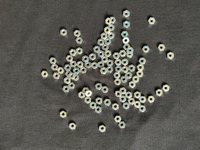nut: (168, 52, 175, 60), (163, 85, 170, 93), (158, 44, 166, 51), (148, 18, 156, 25), (129, 81, 136, 89), (139, 105, 146, 113), (123, 102, 130, 110), (115, 91, 123, 98), (122, 66, 129, 74), (101, 67, 108, 75), (85, 61, 92, 69), (95, 106, 102, 114), (85, 90, 93, 97), (60, 111, 67, 119), (64, 77, 71, 85), (51, 64, 59, 71), (41, 71, 49, 78), (143, 46, 150, 53), (148, 96, 155, 103), (138, 64, 145, 71), (133, 76, 140, 83), (140, 97, 147, 104), (134, 101, 141, 108), (129, 98, 136, 105), (126, 92, 133, 99), (120, 96, 127, 103), (120, 88, 127, 95), (122, 31, 129, 38), (123, 37, 130, 44), (127, 47, 134, 54), (127, 51, 134, 58), (129, 65, 136, 72), (126, 72, 133, 79), (121, 76, 128, 83), (122, 59, 129, 66), (120, 50, 127, 57), (113, 53, 120, 60), (115, 59, 122, 66), (114, 72, 121, 79), (115, 79, 122, 86), (115, 116, 122, 123), (119, 122, 126, 129), (108, 32, 115, 39), (105, 38, 112, 45), (101, 33, 108, 40), (98, 39, 105, 46), (105, 50, 112, 57), (98, 51, 105, 58), (94, 46, 101, 53), (104, 99, 111, 106), (96, 98, 103, 105), (90, 102, 97, 109), (85, 97, 92, 104), (80, 67, 87, 74), (69, 123, 76, 130), (76, 37, 83, 44), (74, 30, 81, 37), (61, 29, 68, 36), (70, 49, 77, 56), (67, 55, 74, 62), (73, 68, 80, 75), (70, 61, 77, 68), (69, 73, 76, 80), (66, 71, 73, 78), (63, 86, 70, 93), (157, 89, 163, 97), (139, 58, 147, 64), (124, 10, 130, 18), (100, 125, 106, 133), (137, 71, 144, 77), (135, 92, 141, 99), (124, 21, 130, 28), (124, 44, 131, 50), (116, 66, 122, 73), (113, 104, 119, 111), (110, 17, 116, 24), (106, 18, 112, 25), (109, 24, 115, 31), (105, 27, 111, 34), (103, 44, 109, 51), (107, 60, 114, 66), (107, 67, 114, 73), (102, 56, 108, 63), (98, 61, 104, 68), (92, 62, 98, 69), (90, 54, 96, 61), (83, 56, 89, 63), (102, 87, 109, 93), (96, 83, 102, 90), (79, 92, 85, 99), (77, 48, 83, 55), (77, 62, 84, 68), (65, 65, 72, 71), (73, 74, 79, 81), (69, 83, 76, 89), (58, 67, 64, 74), (53, 73, 60, 79), (50, 58, 57, 64), (83, 88, 89, 94)
